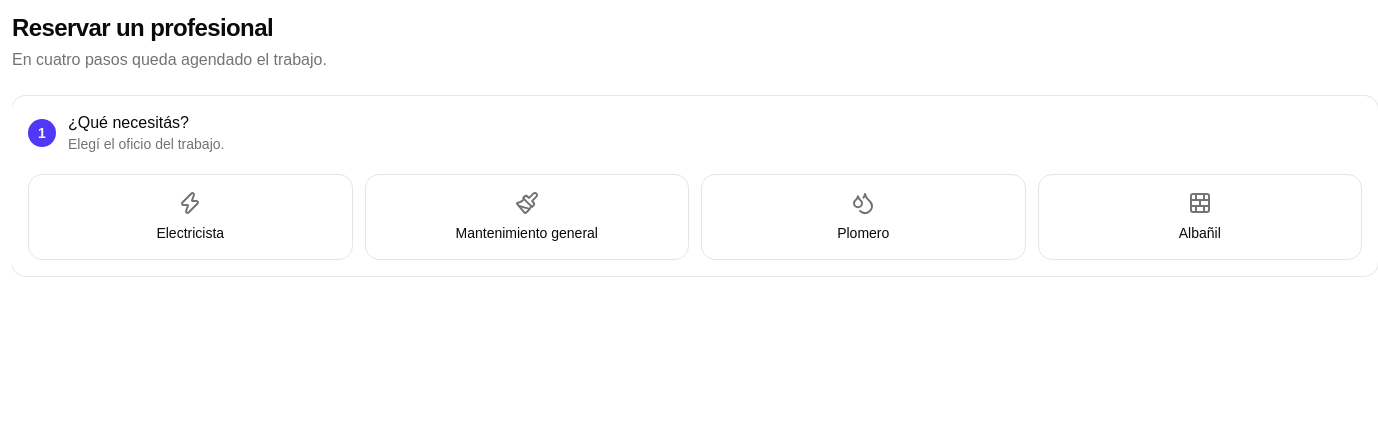
Scenario: Booking › says when nobody of that trade works in the locality
Click the button "Albañil": click(1200, 217) [1038,174,1362,260]
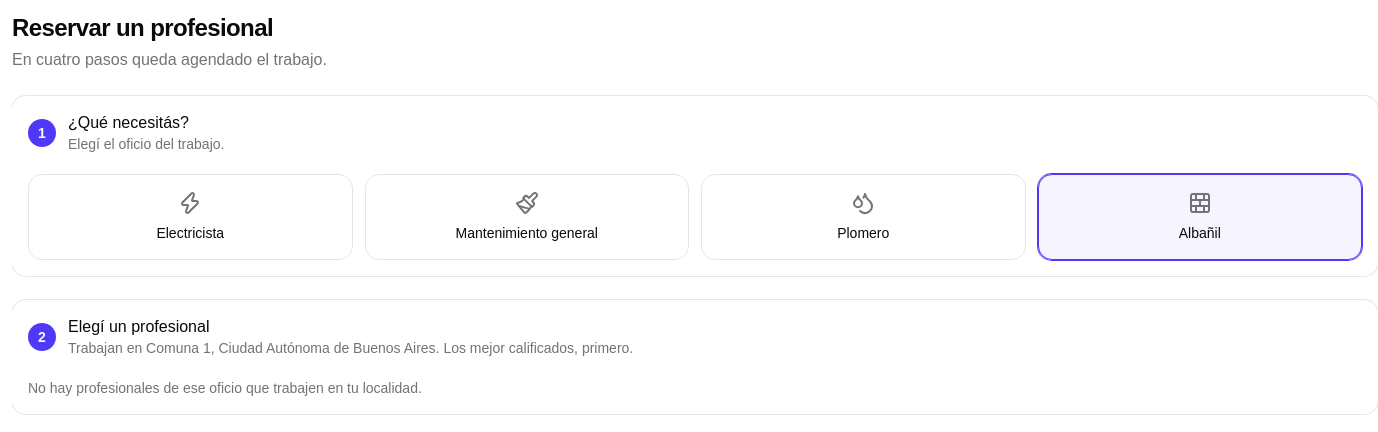
Expected: the text "No hay profesionales de ese oficio que trabajen en tu localidad." is shown, [28,380,422,396]
